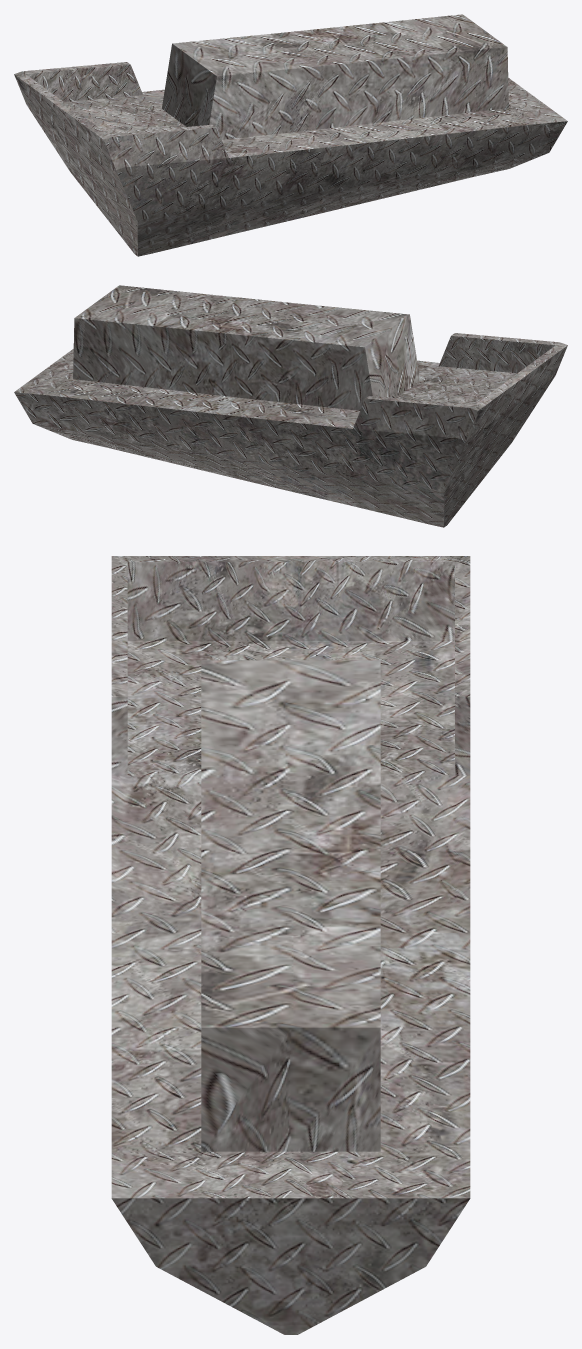
Rendered from Boat.FBX.
3 views of the same model, one above another, from view 1: azimuth 30°, elevation 25°; view 2: azimuth 150°, elevation 25°; view 3: azimuth 270°, elevation 25° (orthographic). The views are drawn at different scales.
Parts seen in each view (by area): view 1: Boat; view 2: Boat; view 3: Boat.
Boxes of the visible parts, bbox=[...] form: Boat: bbox=[14, 14, 567, 256]; Boat: bbox=[14, 285, 567, 527]; Boat: bbox=[111, 556, 470, 1334].
Bounding box in the file's own units: 82.79 × 31.39 × 27.72.
1 material, 1 textured.
